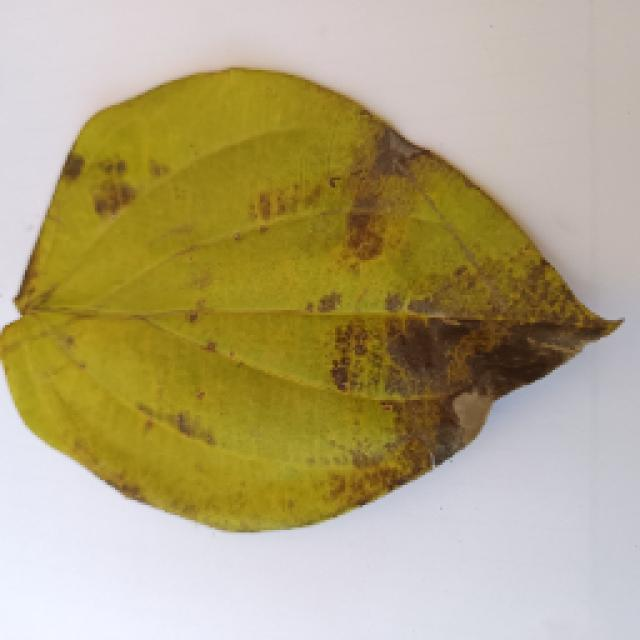slow-decline: (0, 82, 610, 540)
